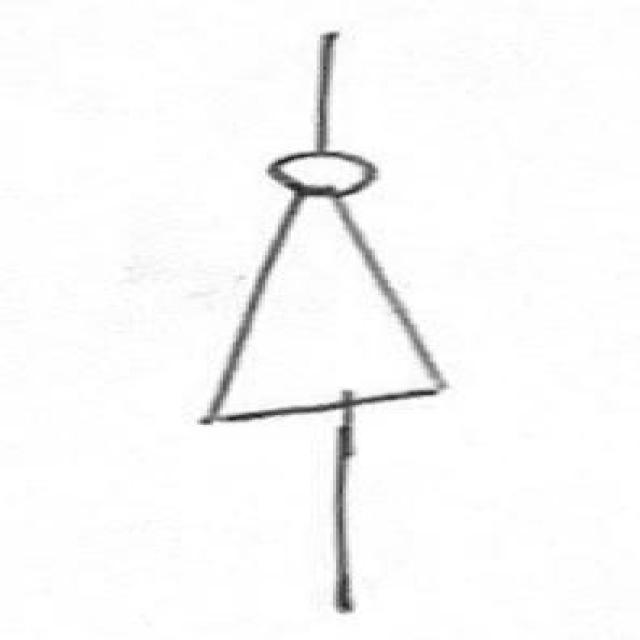NOT: (159, 121, 544, 465)
